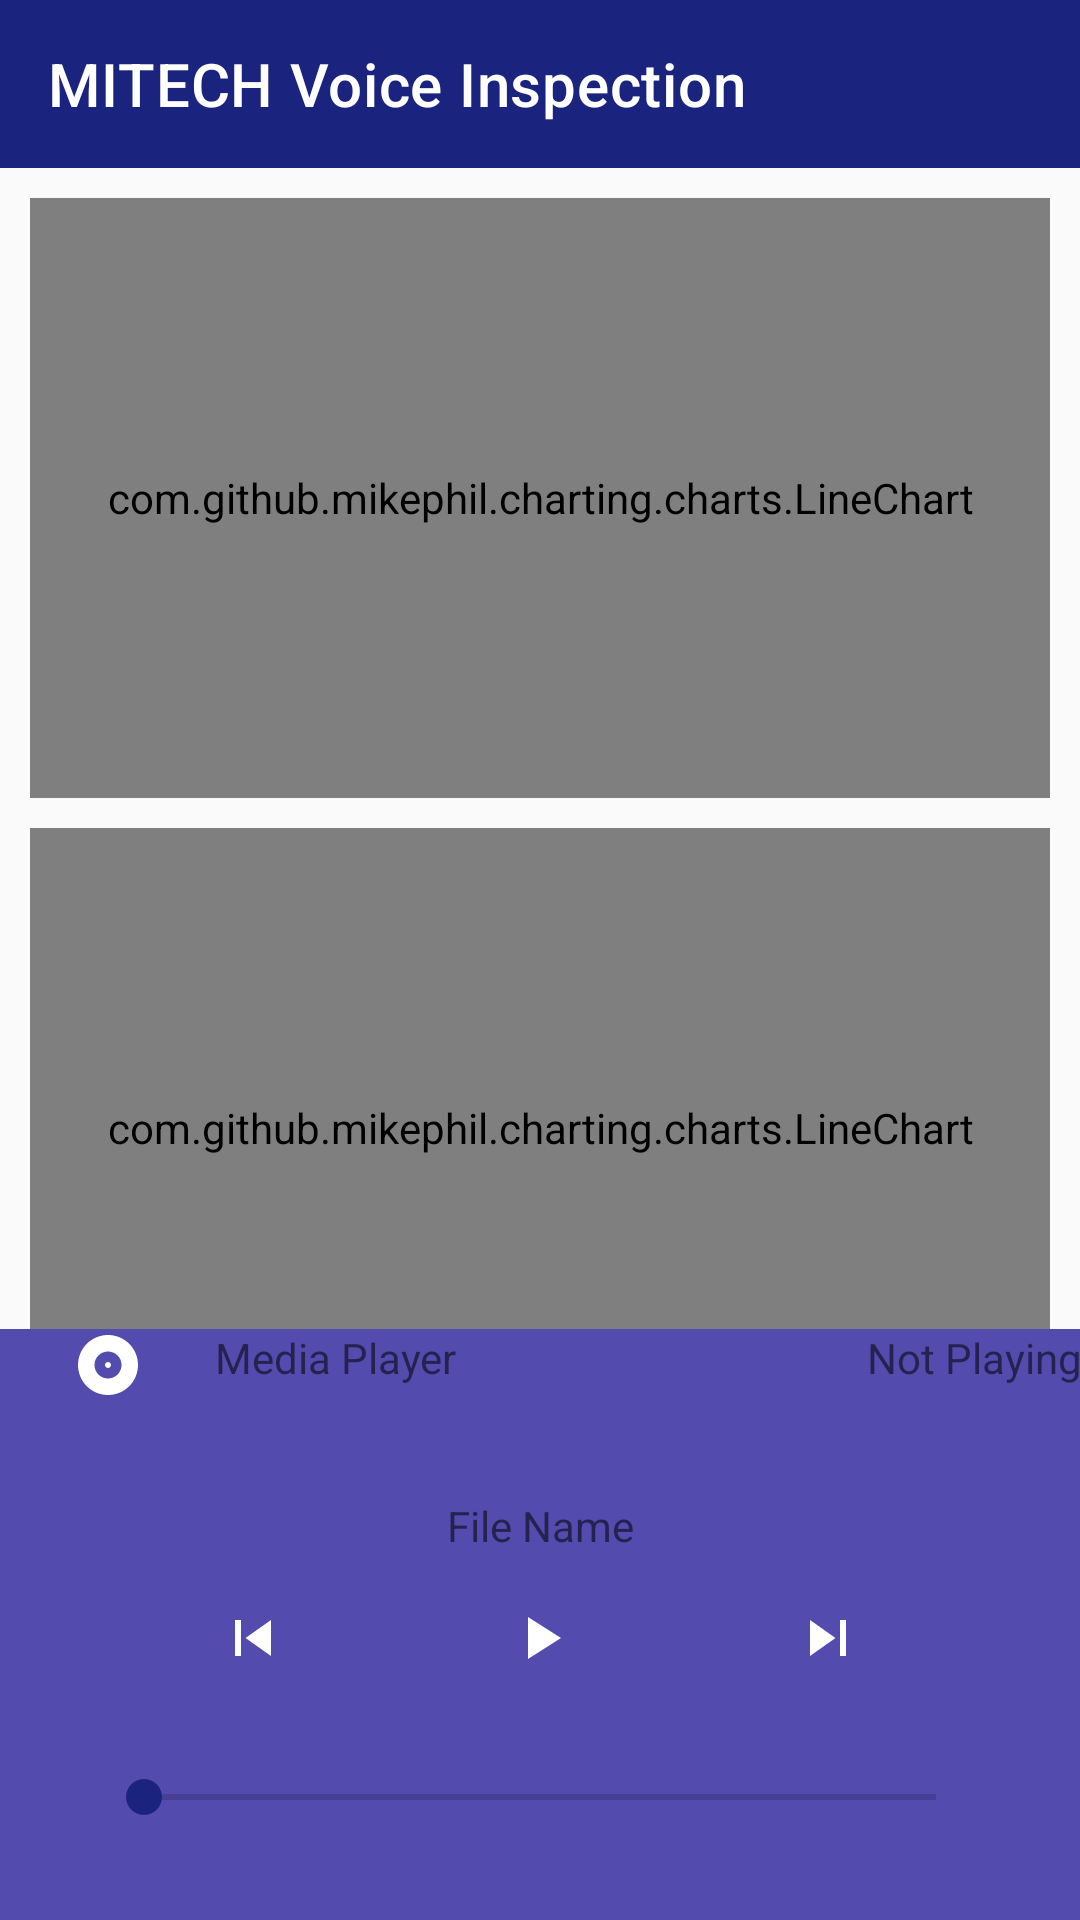

Where icons sit on this 1080px×1920px app screen, as (x1, y1, x2, y2):
record next: (810, 1620, 846, 1656)
record play: (528, 1617, 561, 1659)
record previous: (235, 1620, 271, 1656)
track: (78, 1335, 138, 1395)
